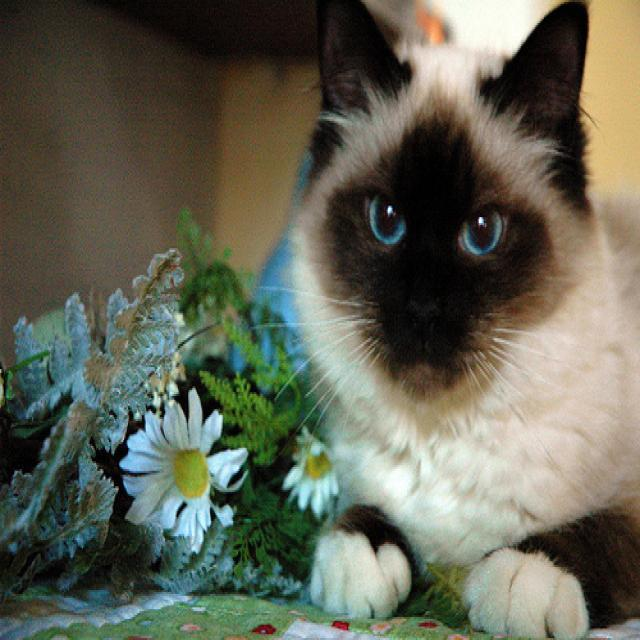Birman: (320, 0, 586, 402)
